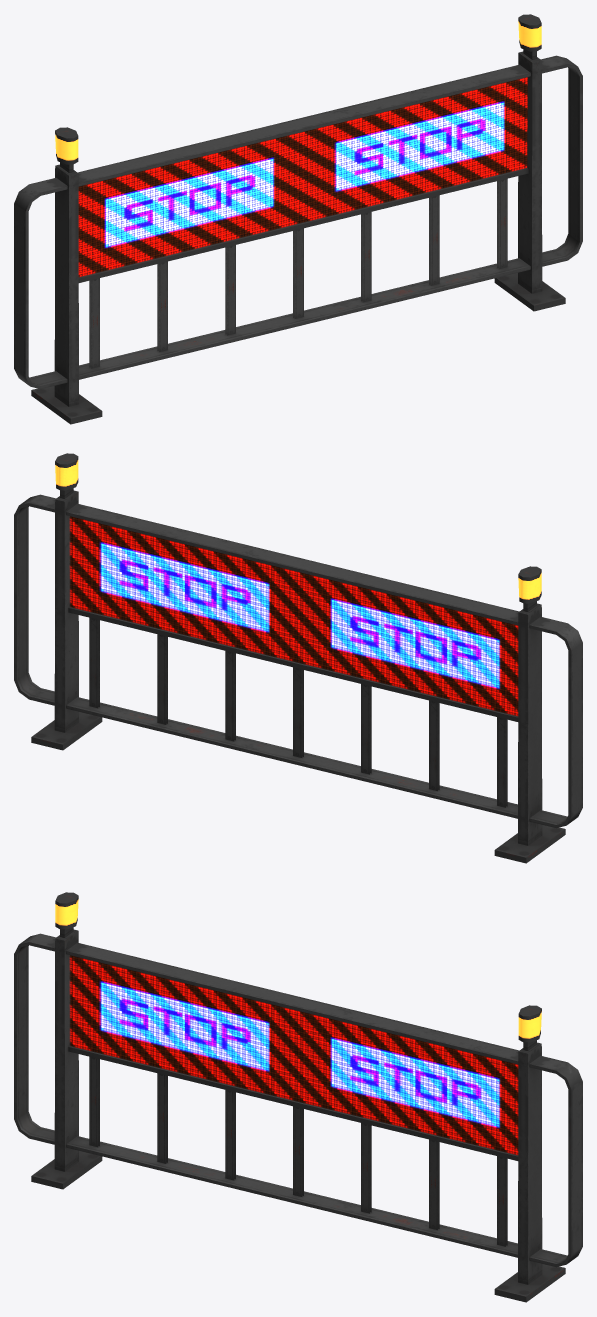
The model's file is TRF0710004.fbx.
3 views of the same model, one above another, from view 1: azimuth 30°, elevation 25°; view 2: azimuth 150°, elevation 25°; view 3: azimuth 330°, elevation 25° (orthographic).
Visible parts, largest first — view 1: smTRF0710004; view 2: smTRF0710004; view 3: smTRF0710004.
Part boxes in pixels (x1,y1,x2,y2): smTRF0710004: (14, 14, 582, 424); smTRF0710004: (14, 453, 582, 863); smTRF0710004: (14, 892, 582, 1302).
Size of the model in its own units: 395 by 185 by 48.25.
1 material, 1 textured.
